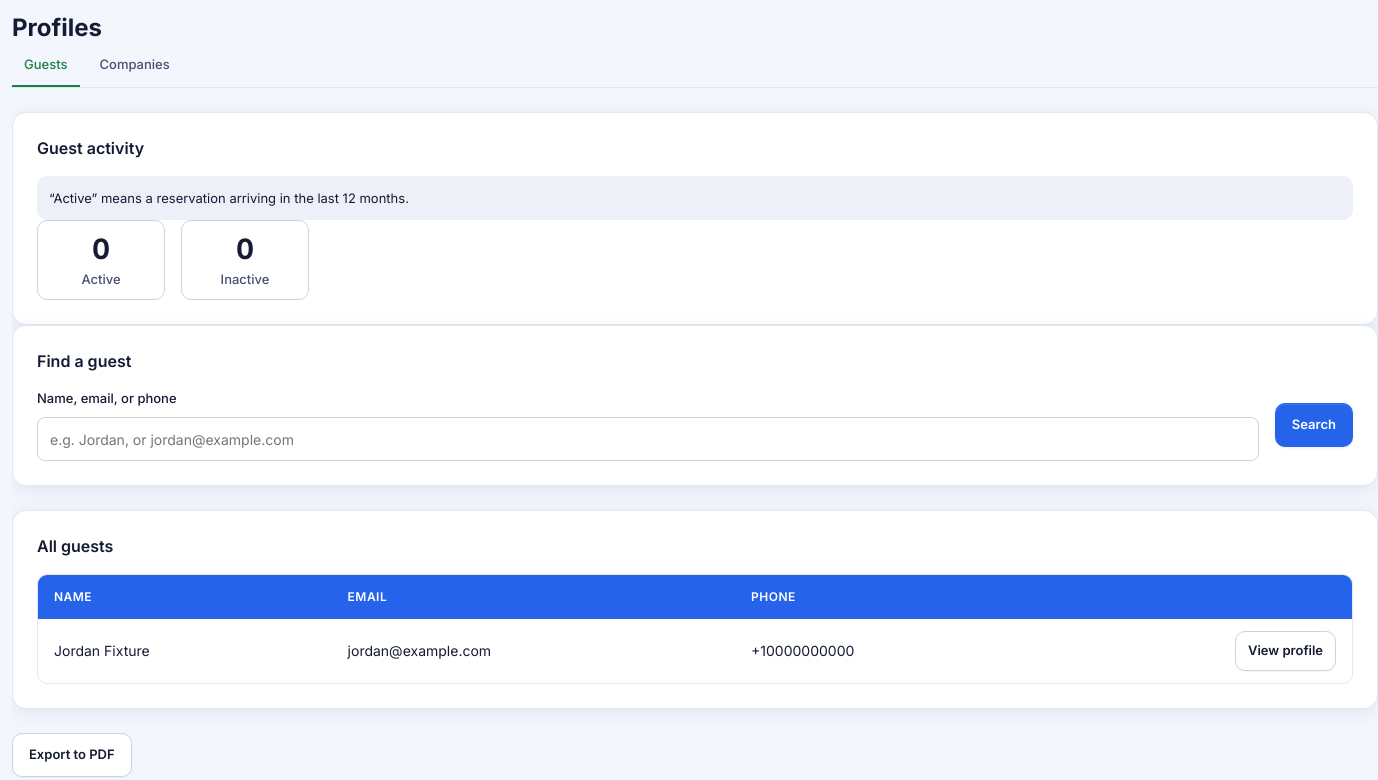
Test: <ProfilesScreen> › shows an empty state when nothing matches a search
The width and height of the screenshot is (1378, 780).
Check: the text "jordan@example.com" is shown, box [332,618,735,683]
Type "nobody" into the field labelled "Name, email, or phone" at (648, 439), box [37,417,1259,461]
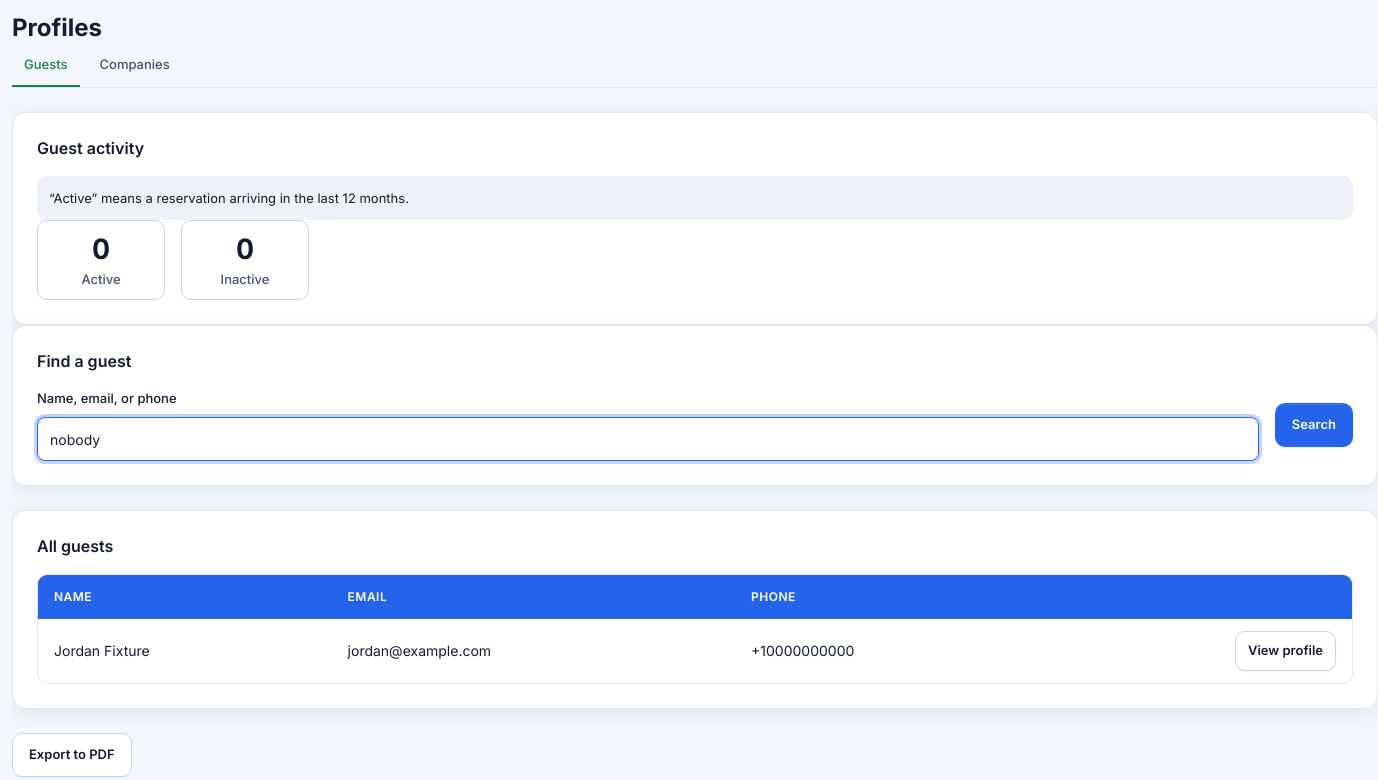
Click the button "Search" at (1314, 425), box [1275,403,1353,447]
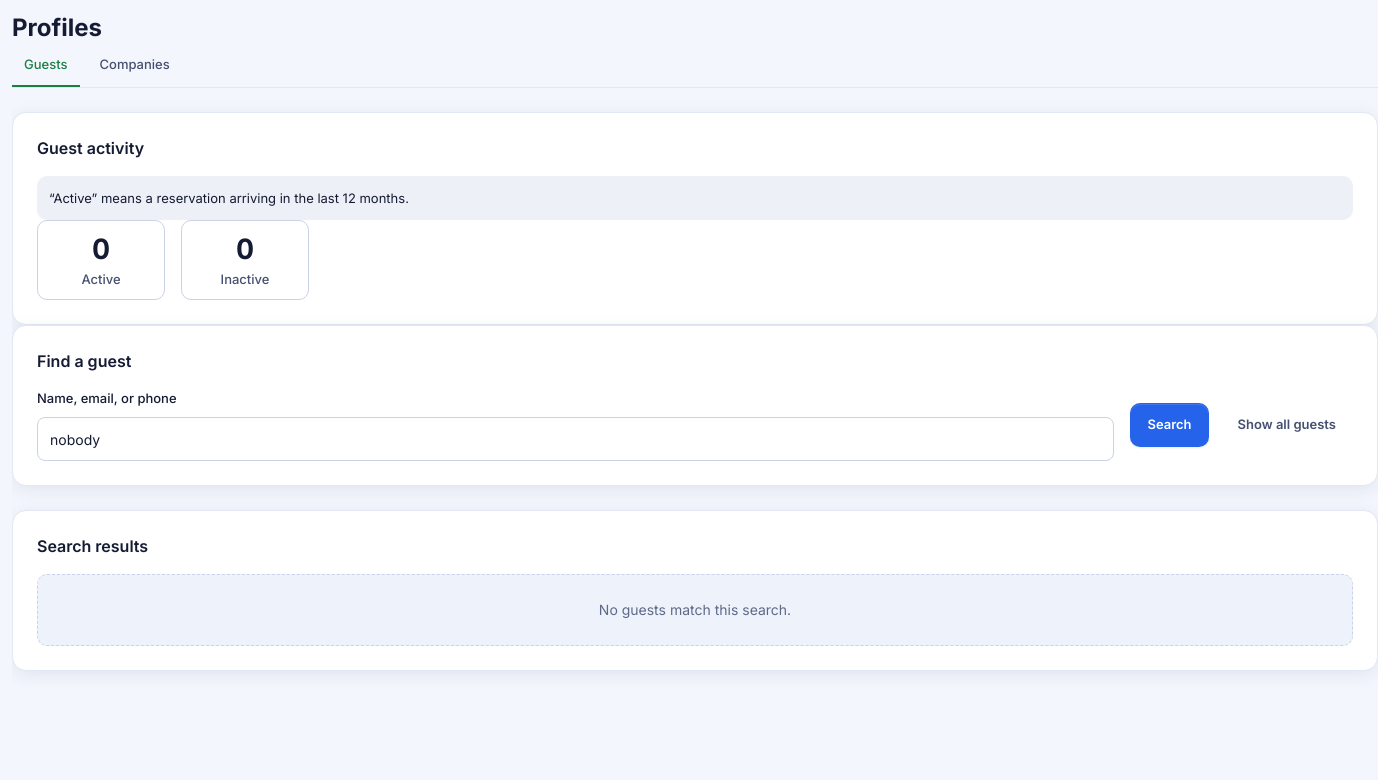
Check: the text "No guests match this search." is shown, box [599,598,791,621]
